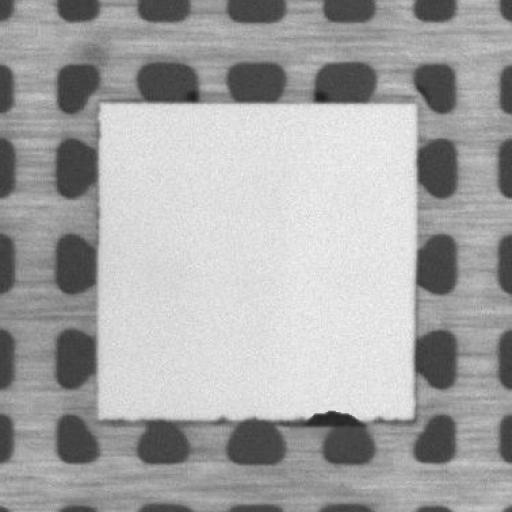DIE_BROKEN: (296, 408, 364, 426)
